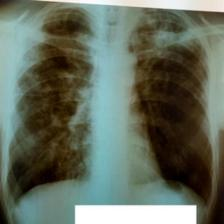tuberculosis: (1, 2, 220, 210)
